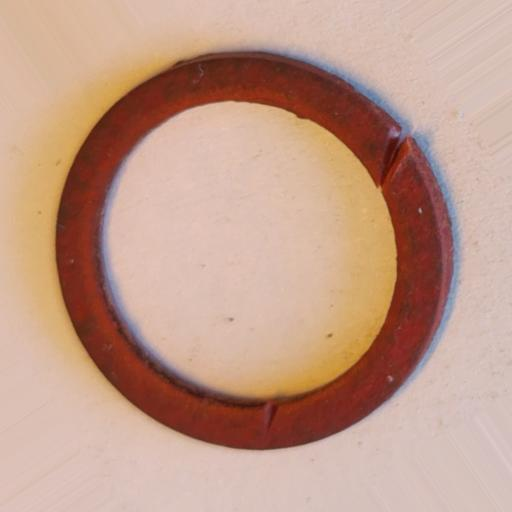defect: (379, 127, 410, 192), (265, 402, 280, 431)
